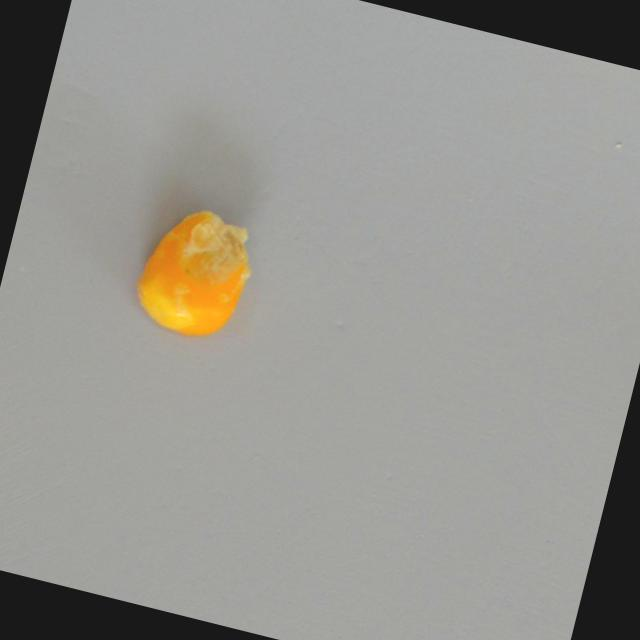pelicula: (127, 197, 261, 348)
